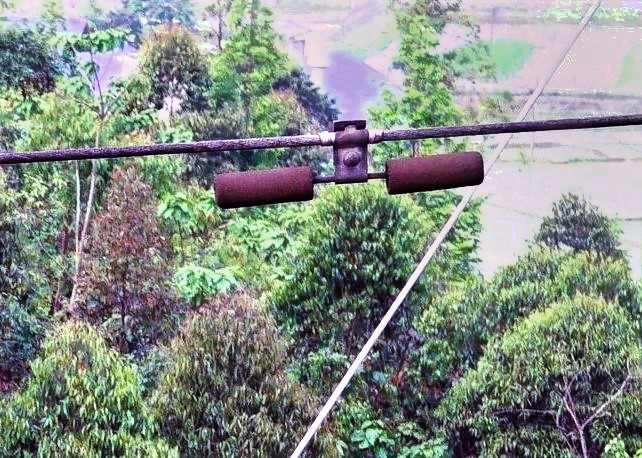Shockproof hammer: (203, 108, 491, 211)
